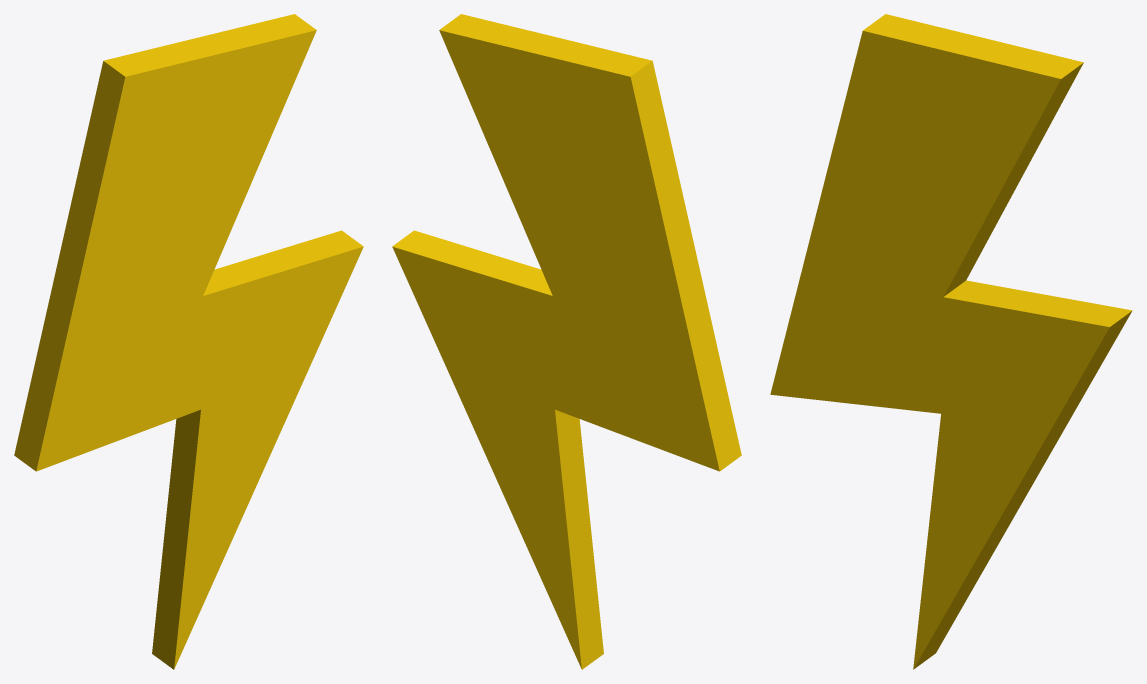
Rendered from PowerUp.fbx.
3 views of the same model, side by side, from view 1: azimuth 30°, elevation 25°; view 2: azimuth 150°, elevation 25°; view 3: azimuth 330°, elevation 25° (orthographic). The views are drawn at different scales.
Visible parts, largest first — view 1: PowerUp; view 2: PowerUp; view 3: PowerUp.
Part boxes in pixels (x1,y1,x2,y2): PowerUp: (14,14,363,669); PowerUp: (392,14,741,669); PowerUp: (770,14,1132,669).
Size of the model in its own units: 2.96 by 0.3453 by 5.23.
